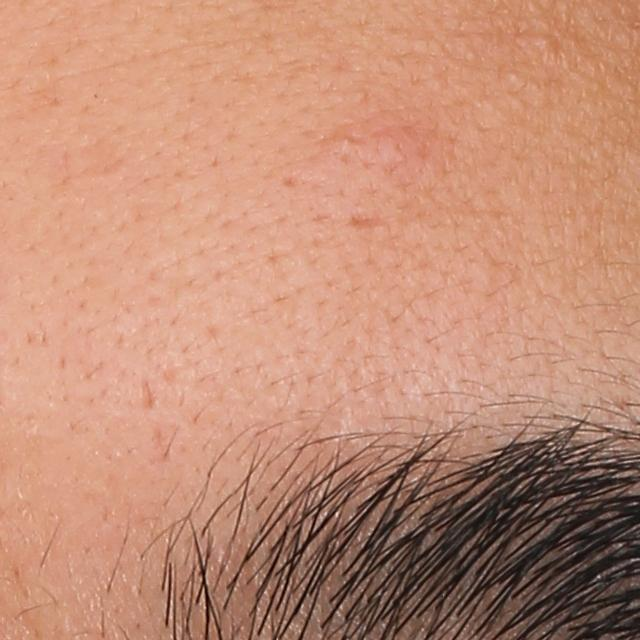atrophic_scar: (338, 206, 390, 235), (139, 375, 161, 412)
comedo: (372, 123, 419, 169), (528, 31, 561, 56)
